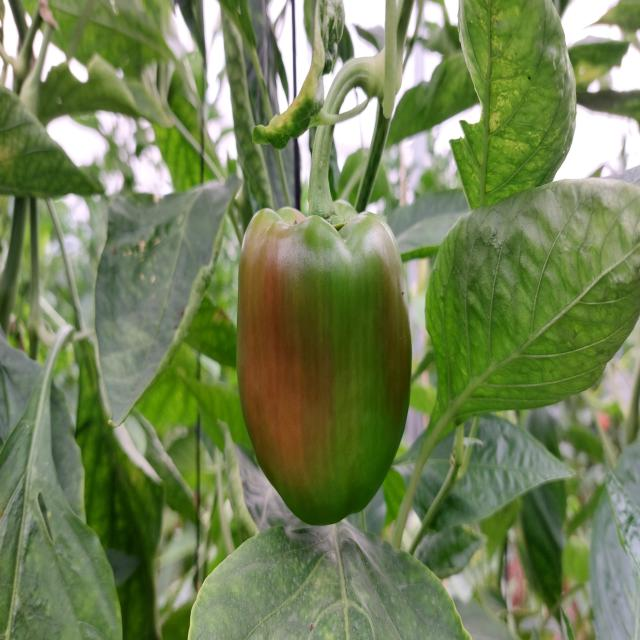BrownishRed--Can-be-Harvested: (238, 210, 412, 520)
